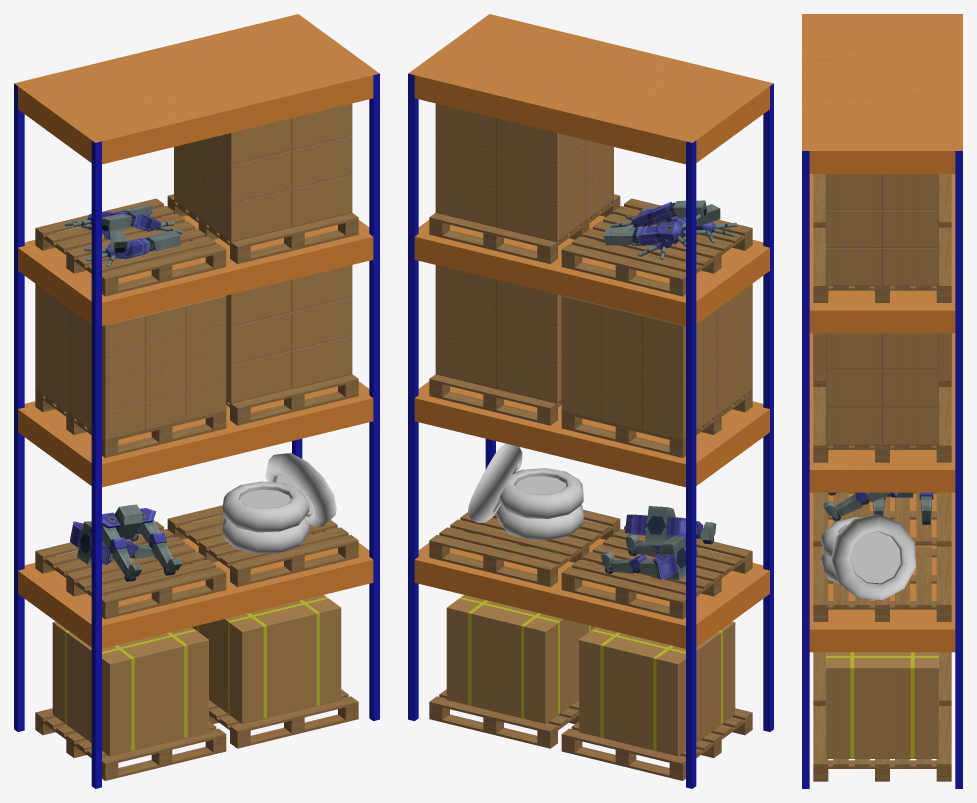
Rendered from Shelf_groupB.fbx.
3 views of the same model, side by side, from view 1: azimuth 30°, elevation 25°; view 2: azimuth 150°, elevation 25°; view 3: azimuth 270°, elevation 25° (orthographic).
Visible parts, largest first — view 1: pCube569, Pallet_Wood19, pCube1219, pCube1099, pCube1229, pCube1179, pCube1189, leg4, leg3, unit_L_normal1, unit_B_normal1, unit_B_normal (+1 smaller); view 2: pCube569, Pallet_Wood19, pCube1219, pCube1099, pCube1229, pCube1179, pCube1189, leg4, leg3, unit_B_normal, unit_L_normal, unit_L_normal1 (+1 smaller); view 3: pCube569, Pallet_Wood19, pCube1189, pCube1099, pCube1179, leg4, pCube1219, unit_L_normal1, unit_L_normal, leg3.
Boxes of the visible parts, left/top/right/bottom form: pCube569: left=14, top=14, right=379, bottom=788; Pallet_Wood19: left=35, top=194, right=358, bottom=780; pCube1219: left=35, top=284, right=226, bottom=440; pCube1099: left=174, top=103, right=352, bottom=242; pCube1229: left=52, top=621, right=208, bottom=756; pCube1179: left=192, top=595, right=341, bottom=723; pCube1189: left=226, top=265, right=352, bottom=403; leg4: left=222, top=453, right=336, bottom=553; leg3: left=222, top=481, right=309, bottom=532; unit_L_normal1: left=89, top=504, right=181, bottom=581; unit_B_normal1: left=81, top=225, right=180, bottom=267; unit_B_normal: left=64, top=205, right=182, bottom=234; pCube569: left=408, top=14, right=773, bottom=788; Pallet_Wood19: left=429, top=194, right=752, bottom=780; pCube1219: left=561, top=284, right=752, bottom=440; pCube1099: left=435, top=103, right=613, bottom=242; pCube1229: left=579, top=621, right=735, bottom=756; pCube1179: left=446, top=595, right=595, bottom=723; pCube1189: left=435, top=265, right=561, bottom=403; leg4: left=468, top=443, right=583, bottom=540; leg3: left=498, top=468, right=583, bottom=518; unit_B_normal: left=603, top=200, right=707, bottom=246; unit_L_normal: left=601, top=534, right=697, bottom=579; unit_L_normal1: left=625, top=506, right=716, bottom=545; pCube569: left=802, top=14, right=962, bottom=788; Pallet_Wood19: left=813, top=174, right=951, bottom=781; pCube1189: left=826, top=333, right=938, bottom=445; pCube1099: left=826, top=174, right=938, bottom=285; pCube1179: left=826, top=652, right=938, bottom=758; leg4: left=821, top=514, right=915, bottom=599; pCube1219: left=813, top=333, right=951, bottom=381; unit_L_normal1: left=823, top=492, right=898, bottom=520; unit_L_normal: left=873, top=492, right=933, bottom=524; leg3: left=821, top=517, right=860, bottom=558.
Size of the model in its own units: 258 by 560 by 128.
